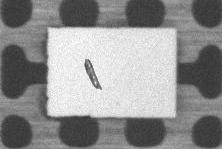DIE_INK: (83, 58, 101, 90)
